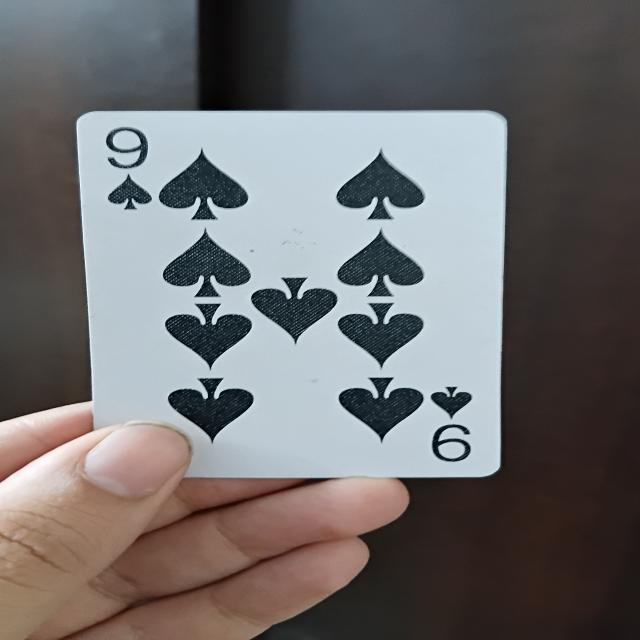9S: (81, 110, 513, 485)
